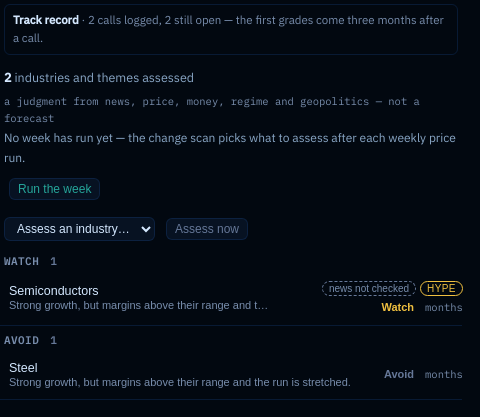
Test: AssessmentView › a run already in flight (a remount mid-run) shows as running and cannot be clicked again
Step 1. Select "Semiconductors" in the dropdown named "Industry to assess" → [80, 229], box x1=4 y1=217 x2=155 y2=241
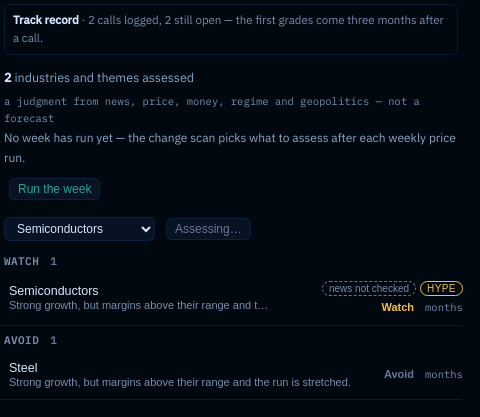
Step 2. Click the button "Assessing…" → [208, 229], box x1=166 y1=218 x2=251 y2=240
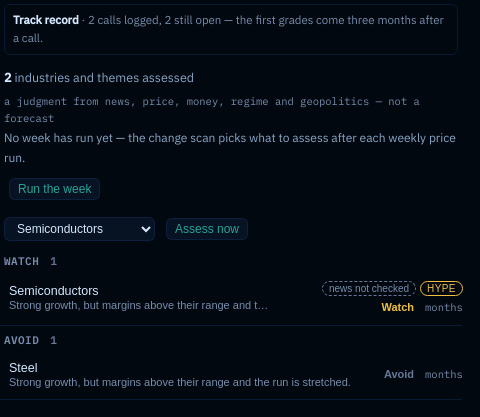
Check: the button "Assess now" is enabled, box x1=166 y1=218 x2=248 y2=240
